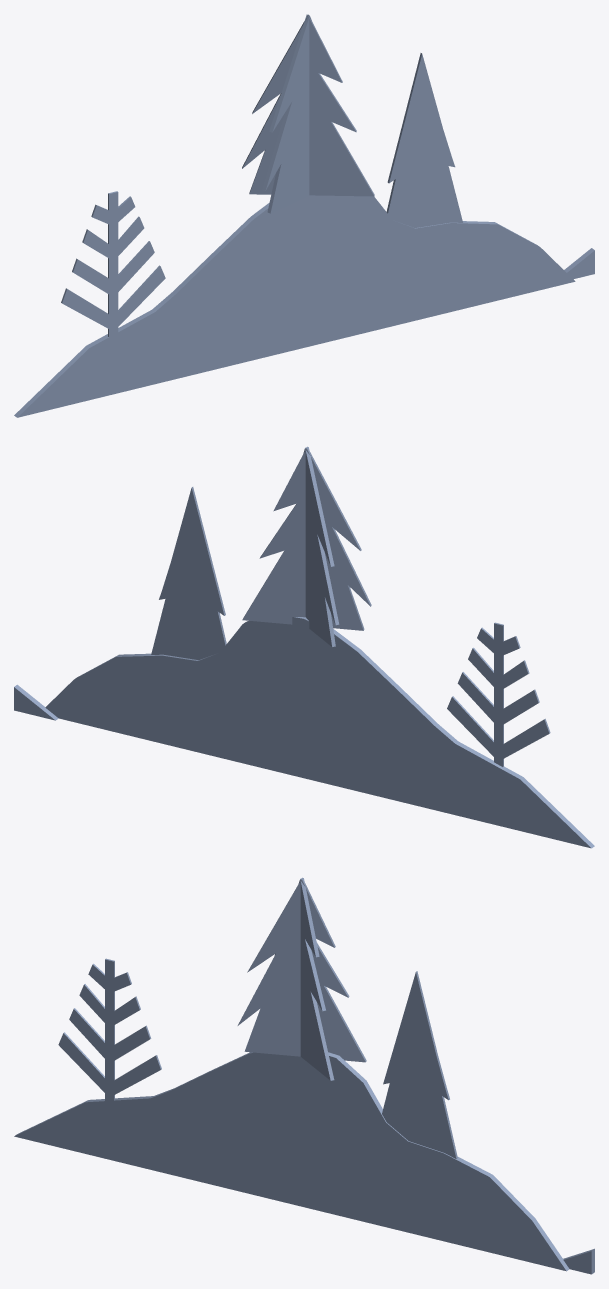
File: frame_0216.glb
3 views of the same model, one above another, from view 1: azimuth 30°, elevation 25°; view 2: azimuth 150°, elevation 25°; view 3: azimuth 330°, elevation 25° (orthographic).
Visible parts, largest first — view 1: export_trees_001.002; view 2: export_trees_001.002; view 3: export_trees_001.002.
Boxes of the visible parts, x1,y1,x2,y2 form: export_trees_001.002: [14, 14, 594, 417]; export_trees_001.002: [14, 446, 594, 848]; export_trees_001.002: [14, 877, 594, 1274].
Bounding box in the file's own units: 0.4218 × 0.2304 × 0.0469.
